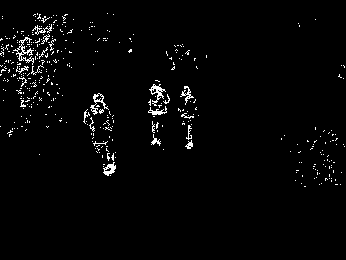person: (82, 92, 117, 179), (147, 80, 170, 147), (177, 85, 199, 150)
